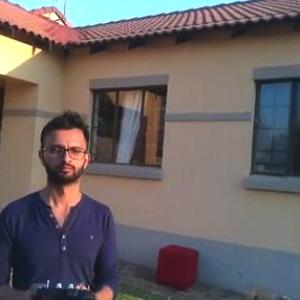follow: (0, 103, 122, 299)
null: (230, 271, 296, 299)
